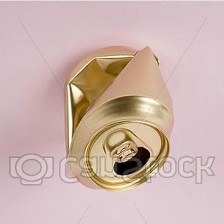can: (61, 40, 179, 194)
